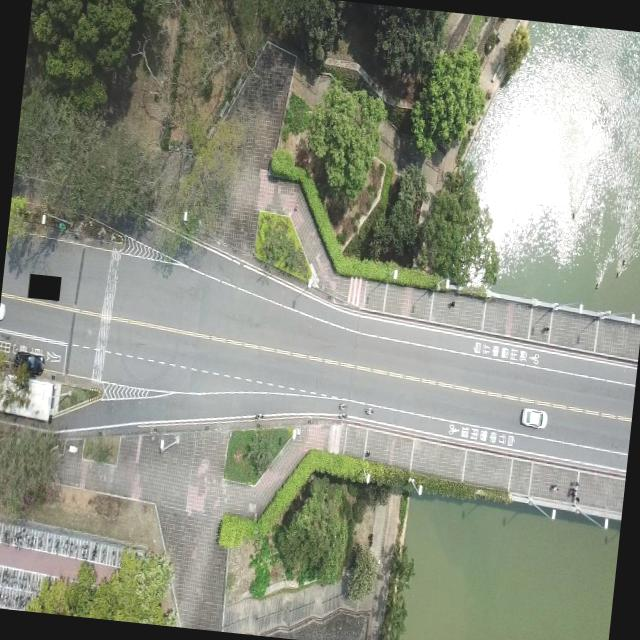bike: (364, 404, 374, 416)
car: (519, 406, 547, 430), (12, 350, 42, 370)
